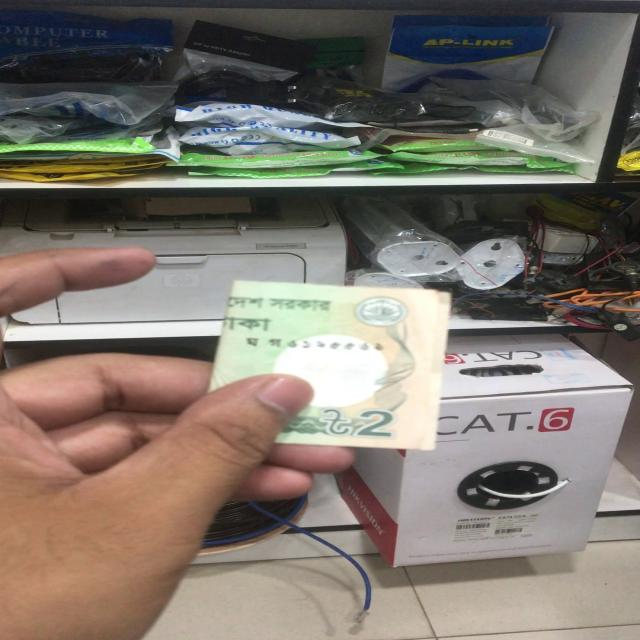Taka: (214, 275, 436, 450)
